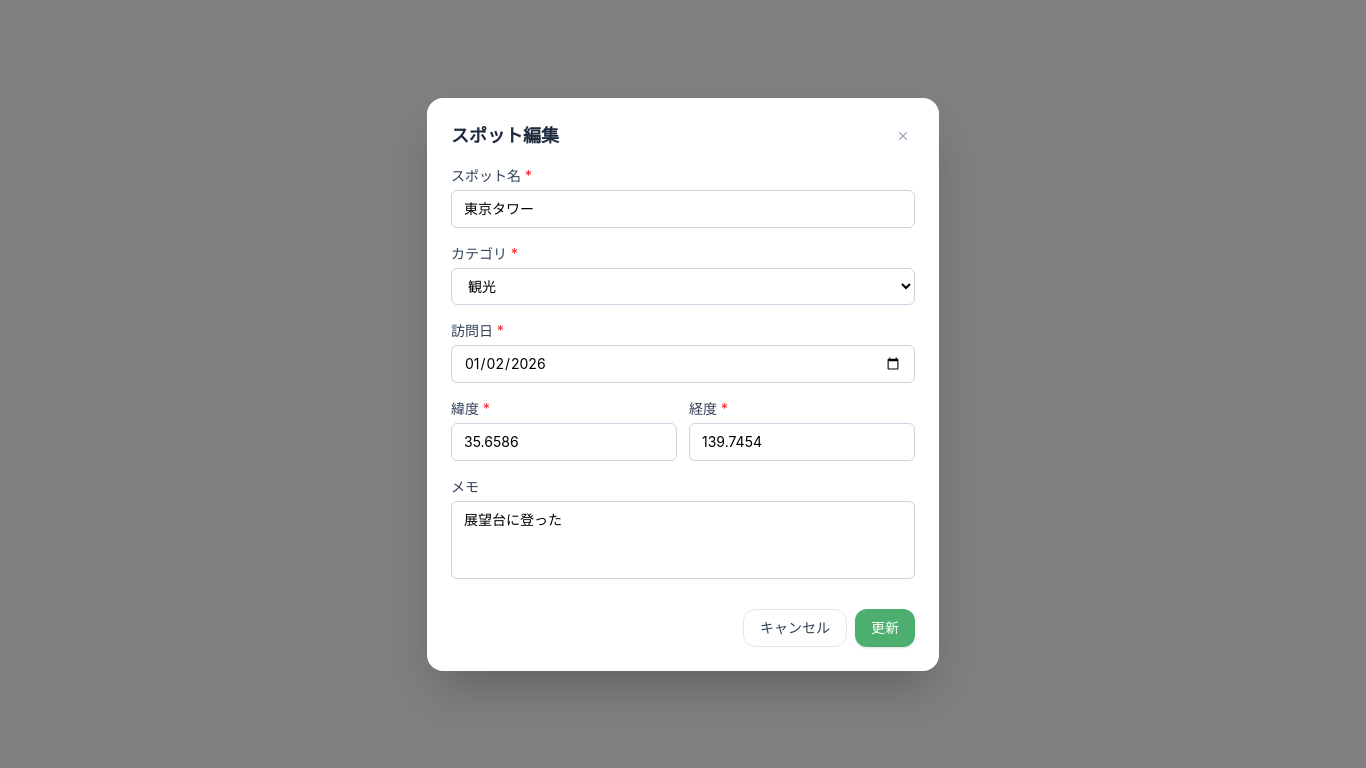
Test: SpotEditModal › S-1: スポット名を空にして送信するとエラーを表示し、API を呼ばない
Clear the field. click: [683, 208]
box: top-left (451, 190), bottom-right (915, 228)
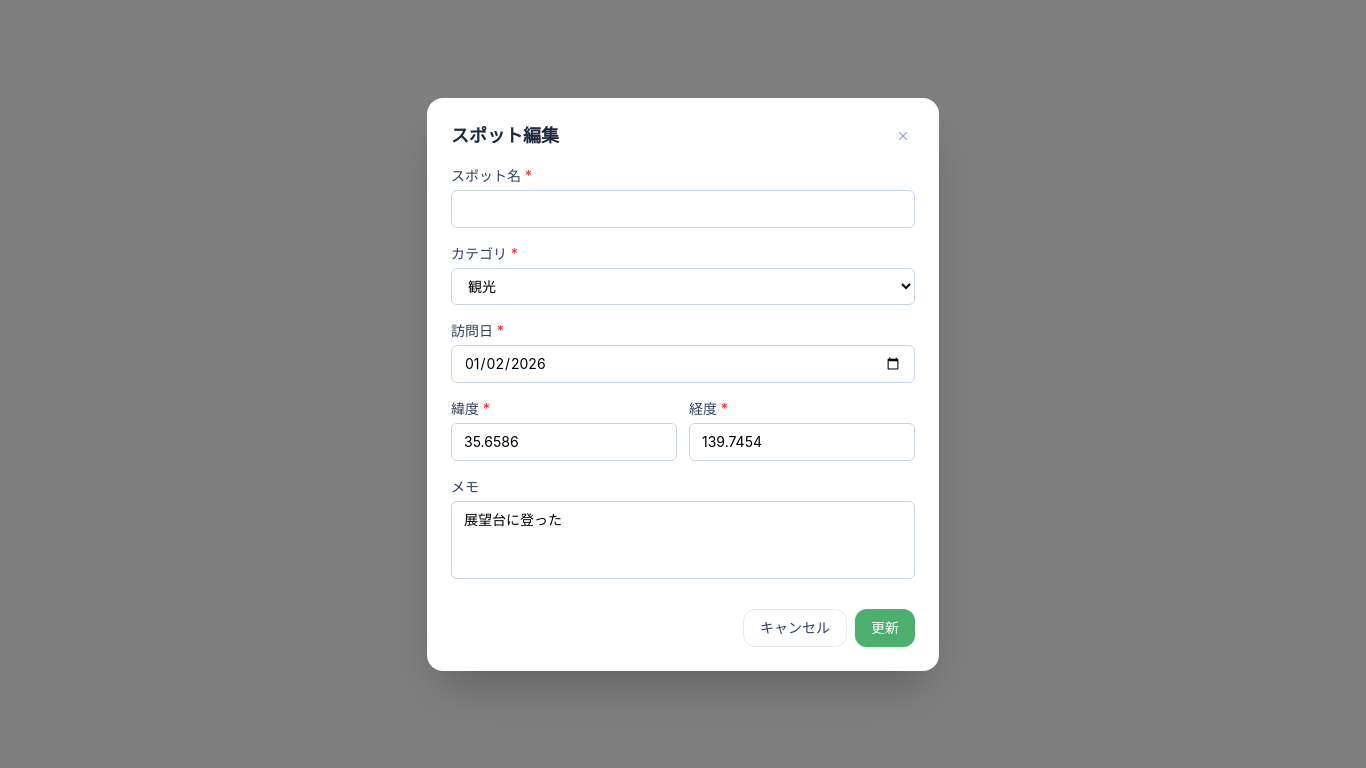
Submit the form, box top-left (451, 166), bottom-right (915, 646)
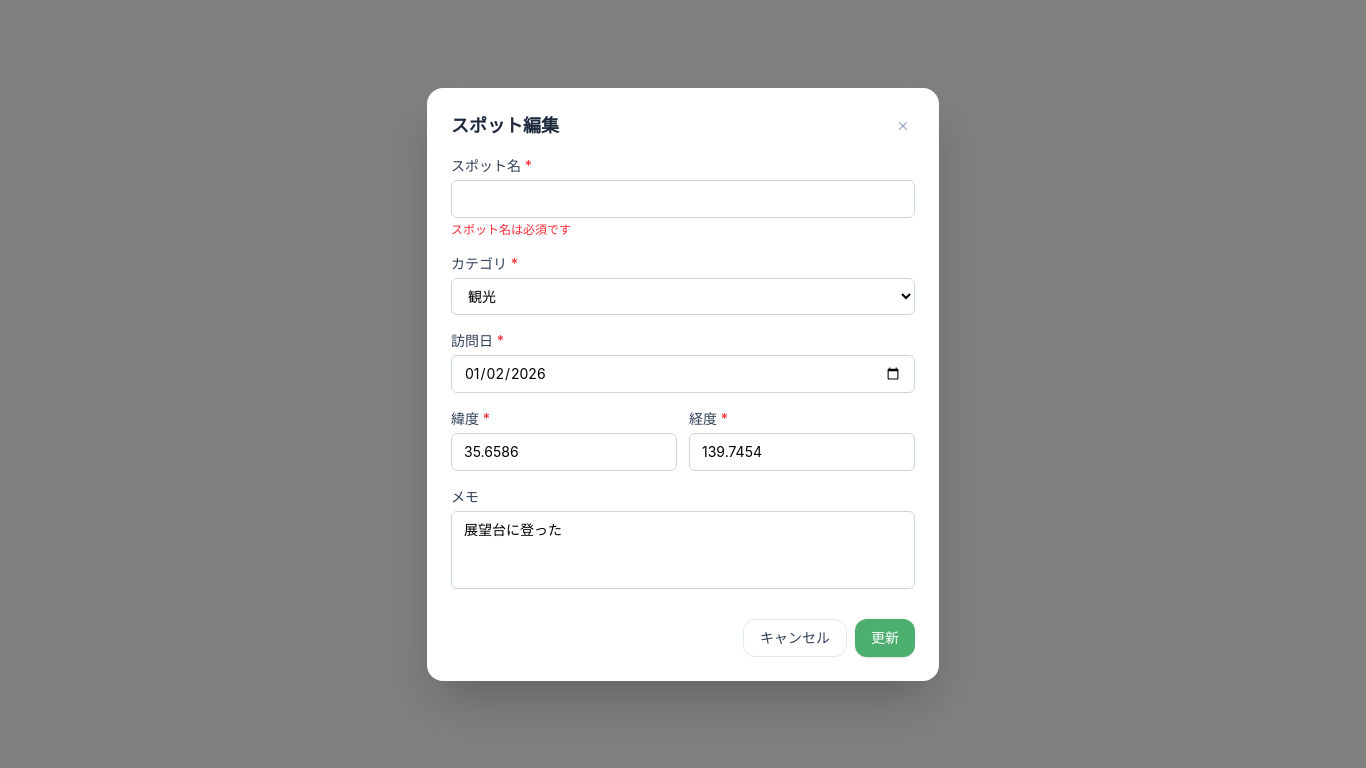
Expected: the text "スポット名は必須です" is shown, top-left (451, 222), bottom-right (571, 236)
